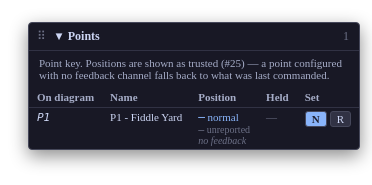
PointKeyPanel — the panel itself › collapses and expands, keeping the count visible
Expected: the table is shown, [29, 51, 359, 149]
Click the button "▾ Points 1".
click(84, 36)  # box [52, 23, 359, 50]
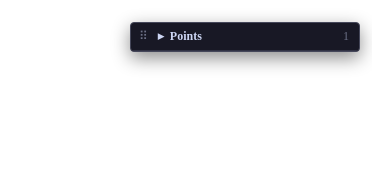
Expected: the table is gone
